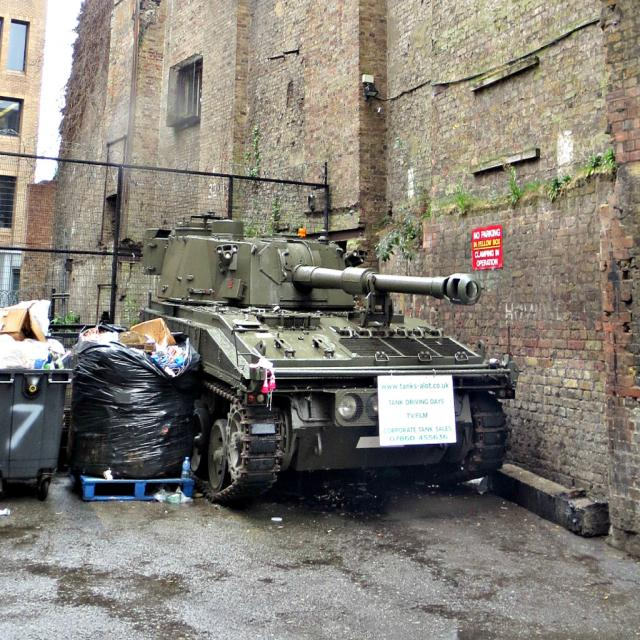tank: (136, 211, 514, 502)
